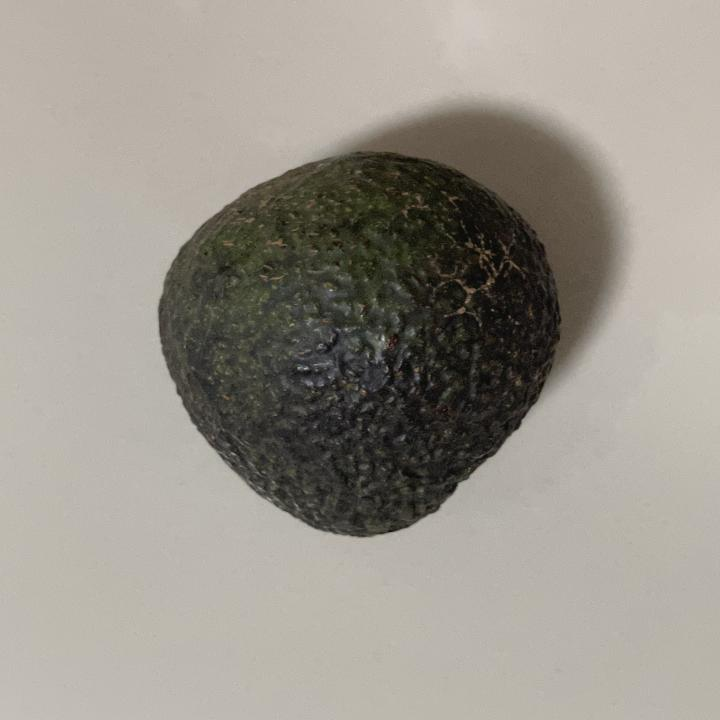Level1: (141, 140, 572, 552)
